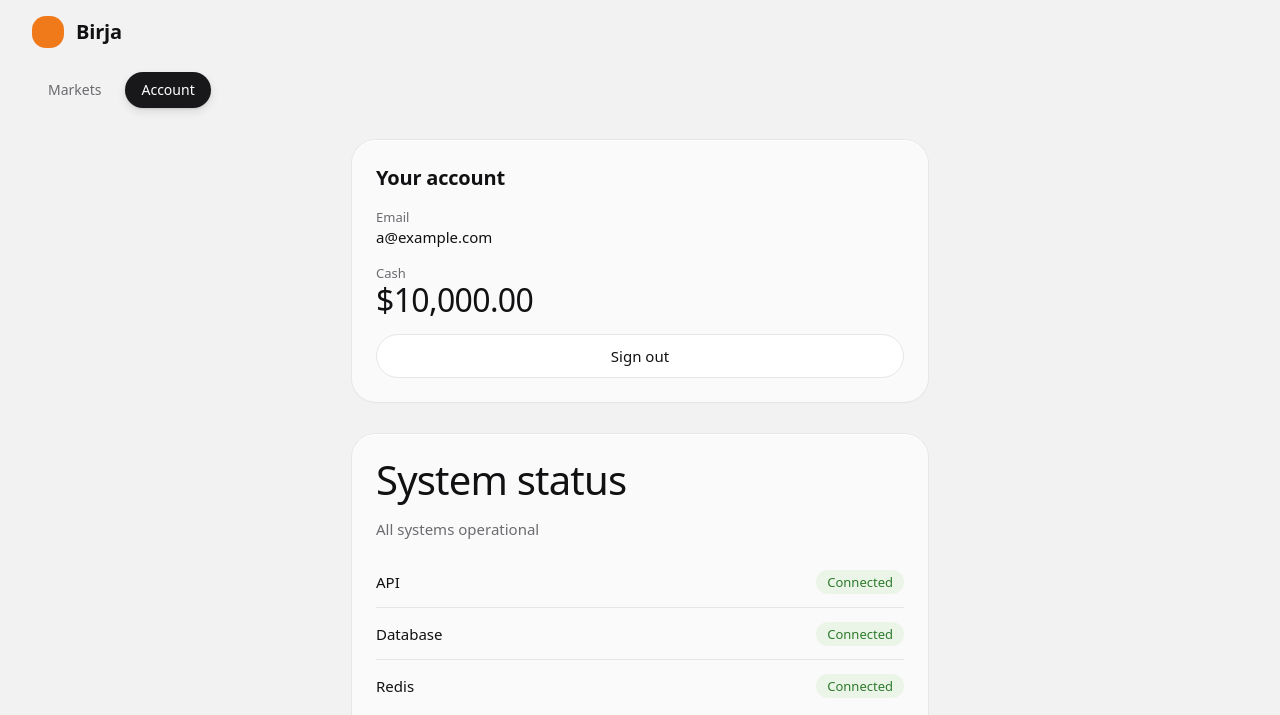
Scenario: App › sign out › keeps the account view and shows an error when sign-out fails
Click the button "Sign out": coordinates (640, 356) [376, 334, 904, 378]
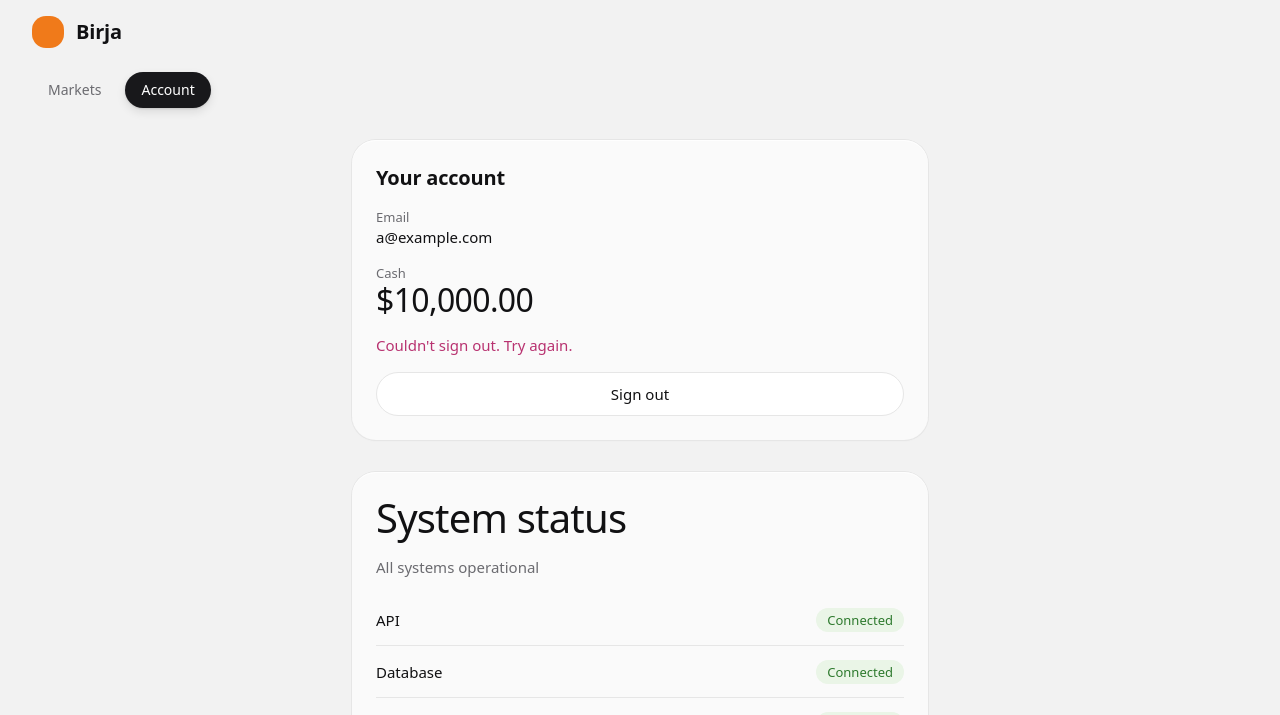
Expected: the text "$10,000.00" is shown, [376, 278, 533, 321]
Expected: the message reads "Couldn't sign out. Try again.", [376, 335, 572, 355]
